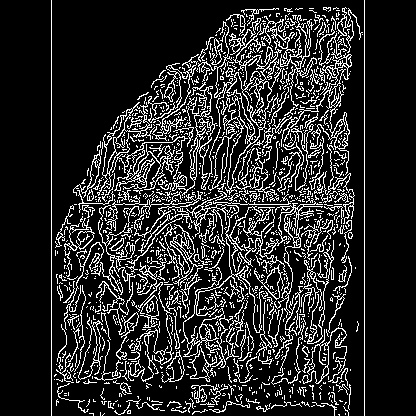buddha-horse-riding: (126, 166, 194, 284)
